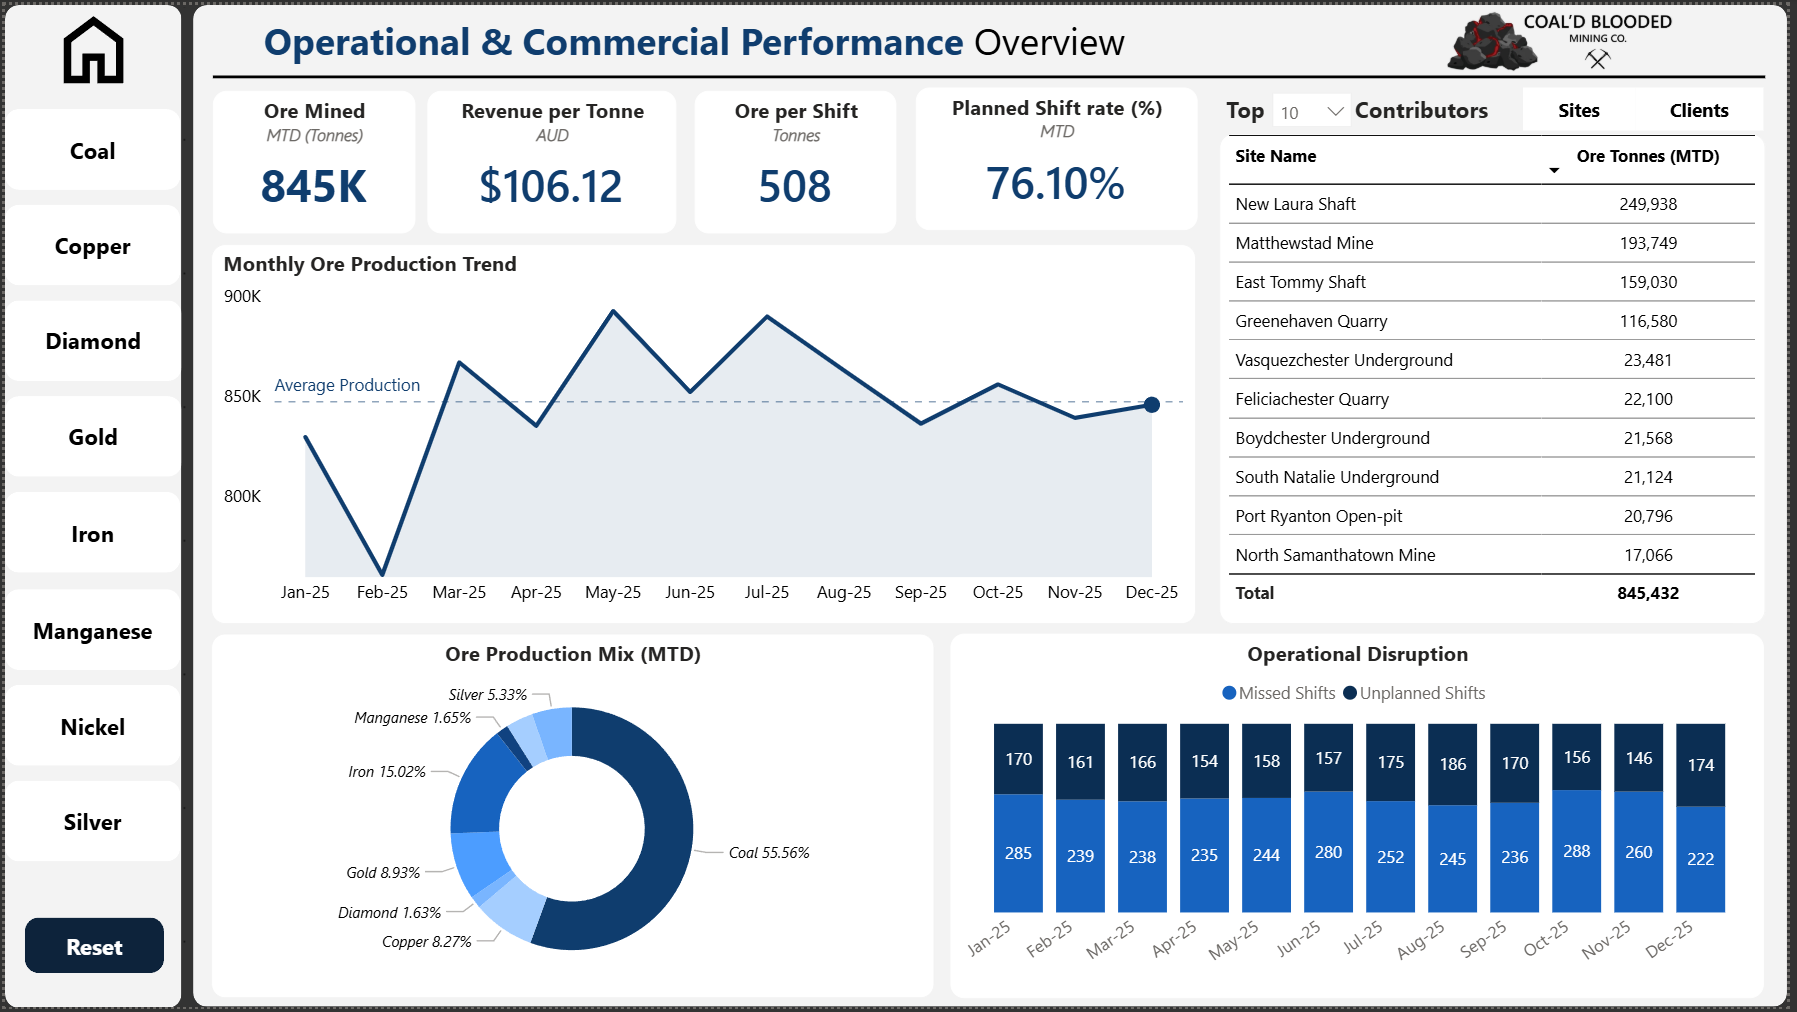

The page's visual inventory and layout, read from the dashboard file:
{"tool":"powerbi","page":{"name":"Overview","canvas":[1280,720],"ordinal":0},"visuals":[{"type":"slicer","title":"Ore_Nav_Slicer","fields":{"Values":["Dim_Ore.OreType"]},"box":[626.4,433.5,106.7,36.8],"z":0},{"type":"shape","box":[134.8,0,1145,719.6],"z":1000},{"type":"image","box":[965.3,0,314.4,49.3],"z":2000},{"type":"textbox","box":[168.5,1.8,653.9,47.1],"z":3000},{"type":"cardVisual","title":"Ore Mined","fields":{"Data":["All_Measures.Ore Tonnes MTD"]},"box":[148.8,61.7,145.3,102.2],"z":4000},{"type":"cardVisual","title":"Ore per Shift","fields":{"Data":["All_Measures.Ore per Shift"]},"box":[495.4,61.6,144.9,102.3],"z":5000},{"type":"cardVisual","title":"Revenue per Tonne","fields":{"Data":["All_Measures.Revenue per Tonne"]},"box":[303.9,61.7,178.8,102.2],"z":6000},{"type":"cardVisual","title":"Planned Shift rate (%)","fields":{"Data":["All_Measures.Planned Shift Rate (MTD)"]},"box":[653.9,58.9,202.2,102.2],"z":7000},{"type":"shape","box":[0,0,126.8,720.4],"z":9000},{"type":"shape","box":[148.8,44.9,1115,13.2],"z":10000},{"type":"tableEx","title":"MX_TopClients","fields":{"Values":["Dim_clients.ClientName","All_Measures.Invoice Value (AUD, YTD)"]},"box":[871.8,92.1,392.7,352],"z":11000},{"type":"tableEx","title":"MX_TopSites","fields":{"Values":["Dim_sites.SiteName","All_Measures.Ore Tonnes MTD"]},"box":[871.9,92.5,391.9,352.3],"z":12000},{"type":"donutChart","title":"Ore Production Mix (MTD)","fields":{"Series":["Fact_ore_volumes.OreType"],"Y":["All_Measures.Ore Tonnes MTD"]},"box":[148.2,452,519.1,261.9],"z":13000},{"type":"actionButton","title":"Clients_Button","box":[1171.4,59.2,92.1,31],"z":14000},{"type":"actionButton","title":"Sites_Button","box":[1090.9,59.2,80.5,31],"z":15000},{"type":"slicer","fields":{"Values":["TopN Parameter.Value"]},"box":[905.7,58.2,66.9,38.8],"z":16000},{"type":"textbox","box":[871.8,59.2,50.4,31],"z":17000},{"type":"textbox","box":[964.8,59.2,117.3,31],"z":18000},{"type":"hundredPercentStackedColumnChart","title":"Operational Disruption","fields":{"Category":["Dim_dates.MonthYearLabel"],"Y":["All_Measures.Missed Shifts","All_Measures.Unplanned Shifts"]},"box":[679.5,452,584.4,261.9],"z":19000},{"type":"actionButton","box":[0,281,127,58],"z":20000},{"type":"image","box":[0,0,127,64],"z":21000},{"type":"actionButton","box":[0,350,126,58.2],"z":22000},{"type":"actionButton","box":[0,488,126,58.2],"z":23000},{"type":"actionButton","box":[0,419,126,58.2],"z":24000},{"type":"actionButton","box":[0,557,126,58.2],"z":25000},{"type":"actionButton","box":[0,74.5,126,58.2],"z":26000},{"type":"actionButton","box":[0,143.6,126,58],"z":27000},{"type":"actionButton","box":[0,212,127,58],"z":28000},{"type":"actionButton","box":[13.6,655.5,100,40],"z":29000},{"type":"lineChart","title":"Monthly Ore Production Trend","fields":{"Category":["Dim_dates.MonthYearLabel"],"Y":["Sum(Fact_ore_volumes.QuantityTonnes)"]},"box":[148.5,172.1,707.3,272.6],"z":30000}]}

Visuals, with their boxes in screenshot pixels (x1, y1, x2, y2), scaled from the page's 1280x720 canvas onto the 1797x1012 screenshot:
"Ore_Nav_Slicer" slicer: crop(879, 609, 1029, 661)
shape: crop(189, 0, 1796, 1011)
image: crop(1355, 0, 1796, 69)
textbox: crop(237, 3, 1155, 69)
"Ore Mined" cardVisual: crop(209, 87, 413, 230)
"Ore per Shift" cardVisual: crop(695, 87, 899, 230)
"Revenue per Tonne" cardVisual: crop(427, 87, 678, 230)
"Planned Shift rate (%)" cardVisual: crop(918, 83, 1202, 226)
shape: crop(0, 0, 178, 1011)
shape: crop(209, 63, 1774, 82)
"MX_TopClients" tableEx: crop(1224, 129, 1775, 624)
"MX_TopSites" tableEx: crop(1224, 130, 1774, 625)
"Ore Production Mix (MTD)" donutChart: crop(208, 635, 937, 1003)
"Clients_Button" actionButton: crop(1645, 83, 1774, 127)
"Sites_Button" actionButton: crop(1532, 83, 1645, 127)
slicer - TopN Parameter.Value: crop(1272, 82, 1365, 136)
textbox: crop(1224, 83, 1295, 127)
textbox: crop(1354, 83, 1519, 127)
"Operational Disruption" hundredPercentStackedColumnChart: crop(954, 635, 1774, 1003)
actionButton: crop(0, 395, 178, 476)
image: crop(0, 0, 178, 90)
actionButton: crop(0, 492, 177, 574)
actionButton: crop(0, 686, 177, 768)
actionButton: crop(0, 589, 177, 671)
actionButton: crop(0, 783, 177, 865)
actionButton: crop(0, 105, 177, 187)
actionButton: crop(0, 202, 177, 283)
actionButton: crop(0, 298, 178, 379)
actionButton: crop(19, 921, 159, 978)
"Monthly Ore Production Trend" lineChart: crop(208, 242, 1201, 625)
